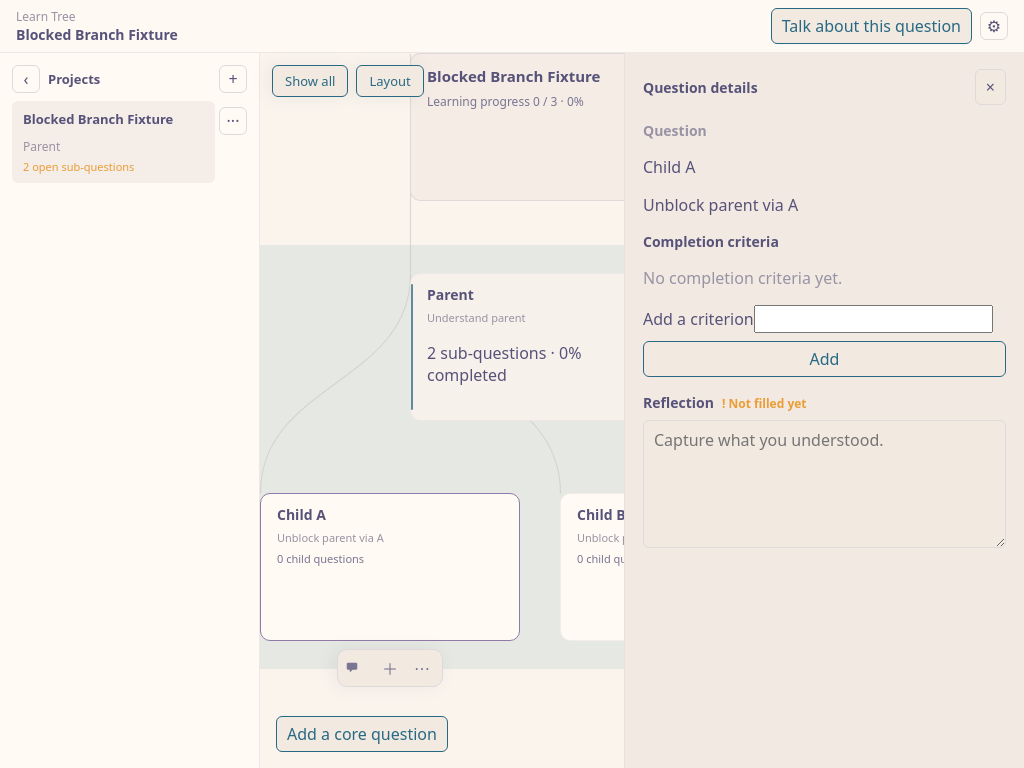
Test: child authoring UI › creates an ordinary child on the tree via createChild
Click the button "＋": (390,668) left=376, top=654, right=404, bottom=682
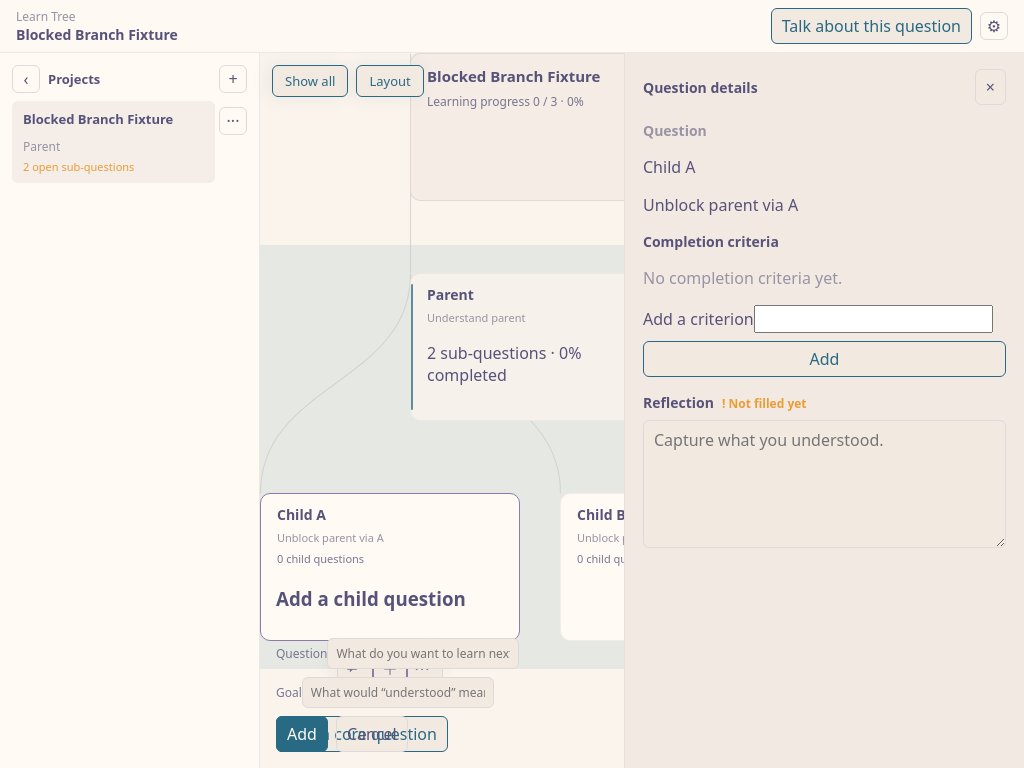
In the field with test id "authoring-question": (423,654) left=327, top=638, right=519, bottom=669, type "New child"
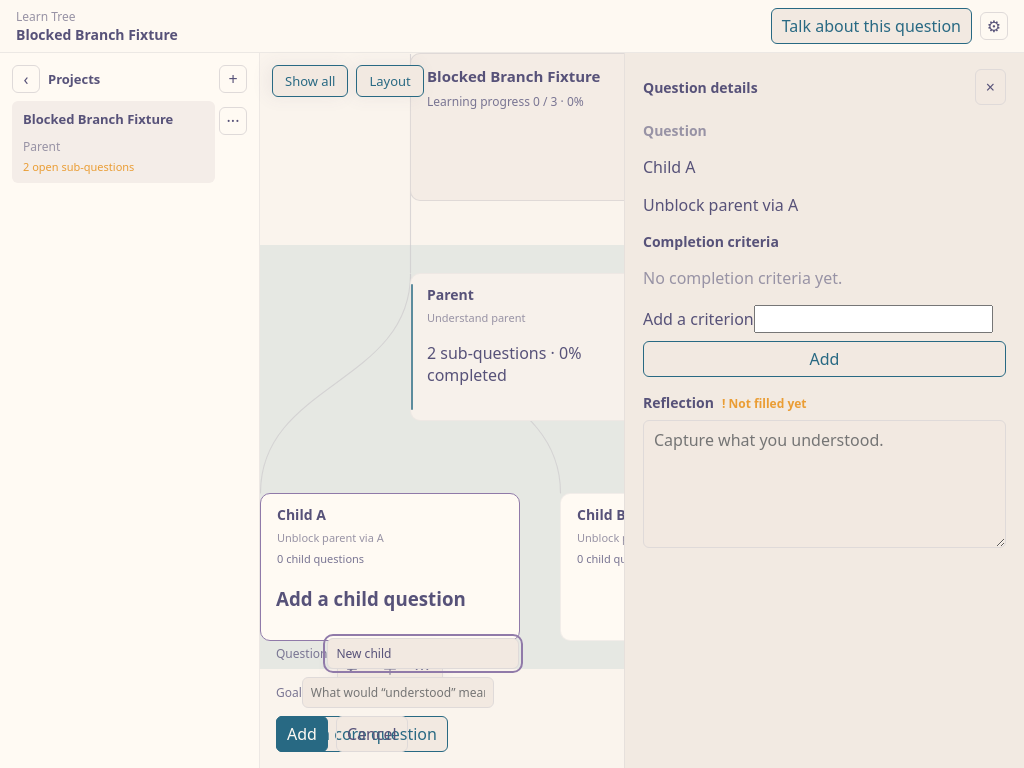
In the field with test id "authoring-goal": (398,692) left=302, top=677, right=494, bottom=708, type "Understand it"
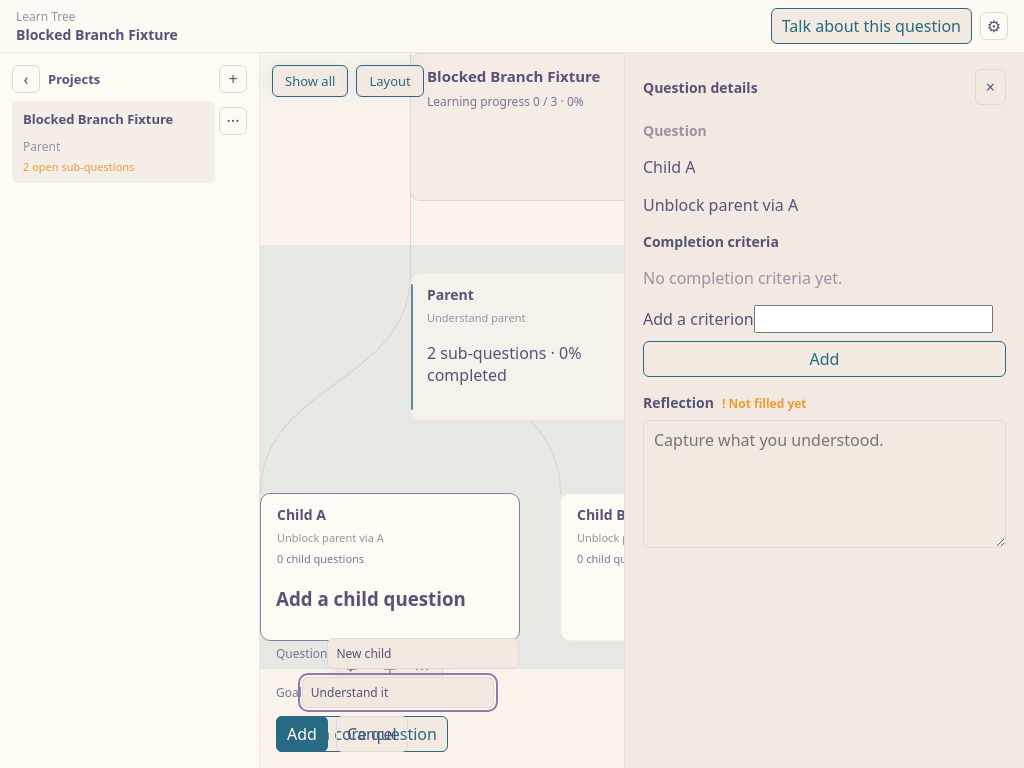
Click the button with test id "authoring-submit": (302,734) left=276, top=716, right=328, bottom=752
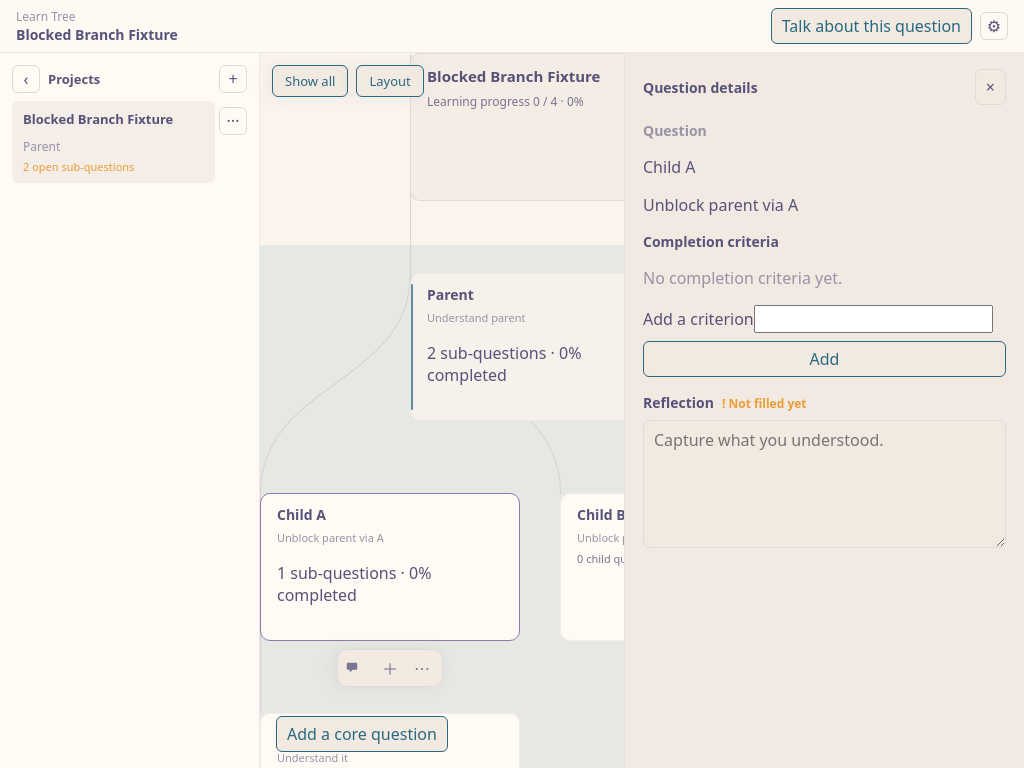
Check: the form with test id "authoring-form" is gone
Check: the text "New child" is shown, box left=277, top=725, right=346, bottom=744
